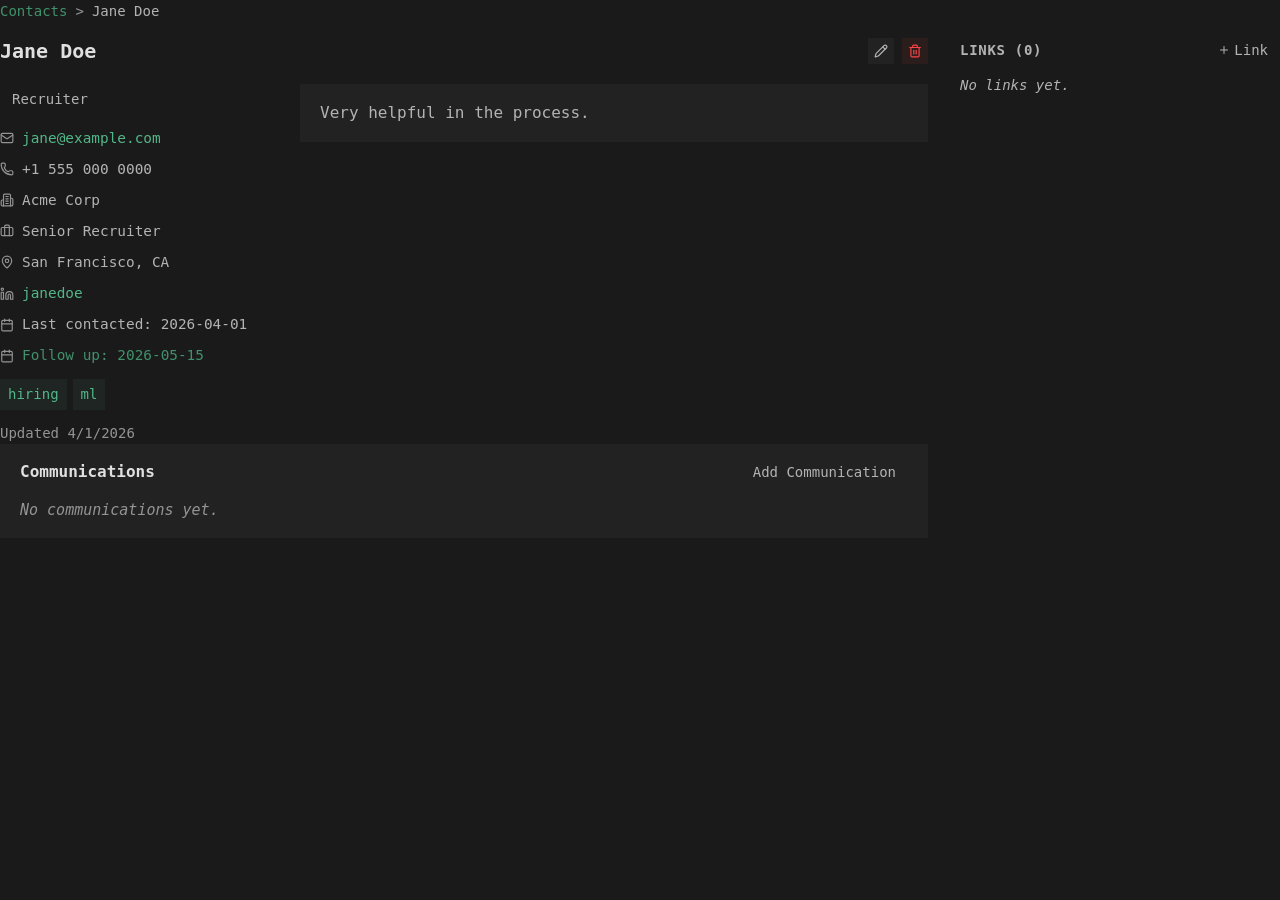
Scenario: ContactDetailView › shows confirm dialog on delete click
Expected: the text "Jane Doe" is shown, [92,0,159,22]
What coordinates should you click on to do the following:
click the button named "Delete"
I would click on:
 (915, 51)
Its box is [902,38,928,64].
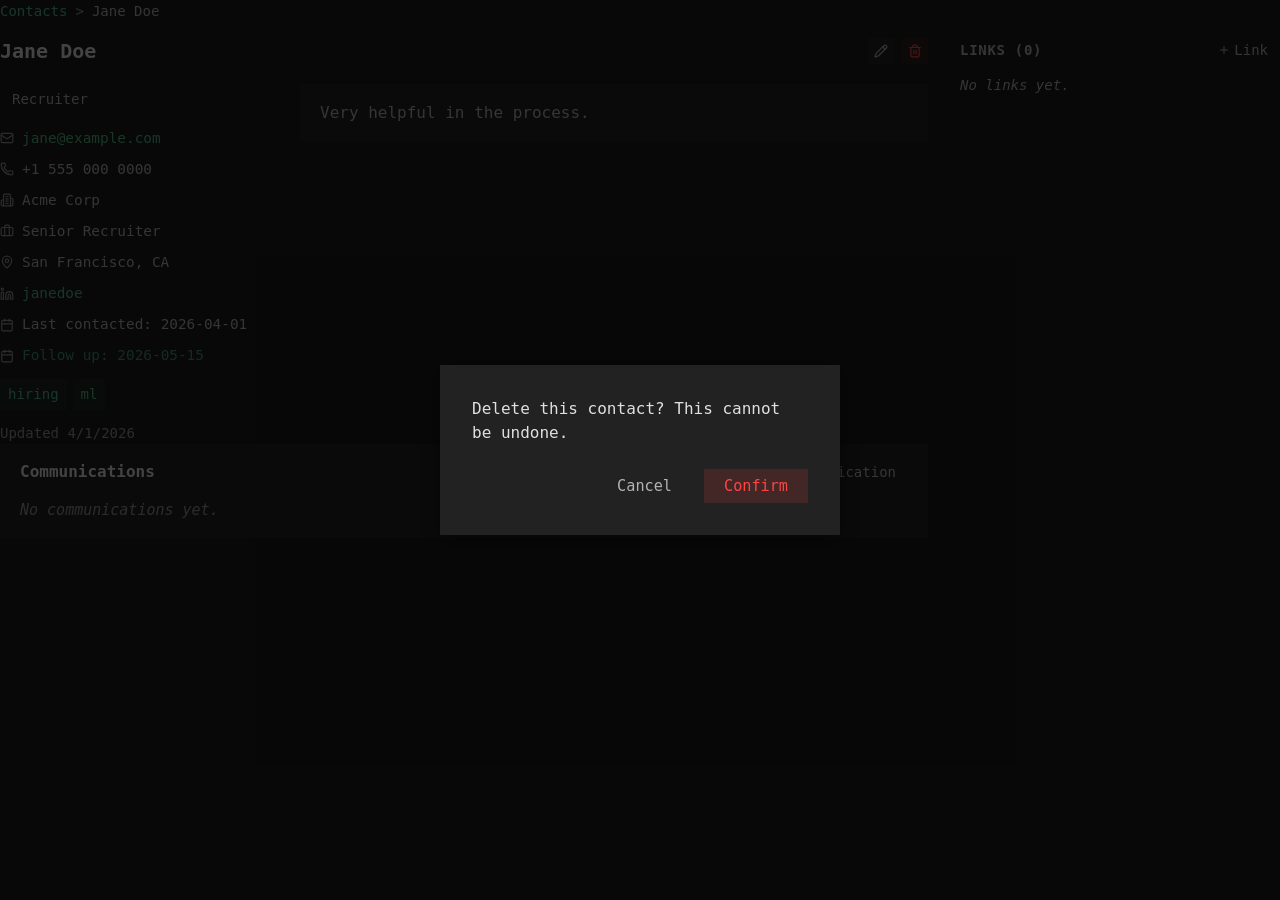
Now the text "Delete this contact? This cannot be undone." is shown, box [472,397,808,445]
